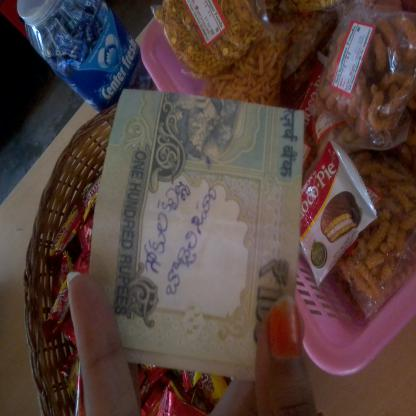Old100Back: (86, 87, 306, 382)
